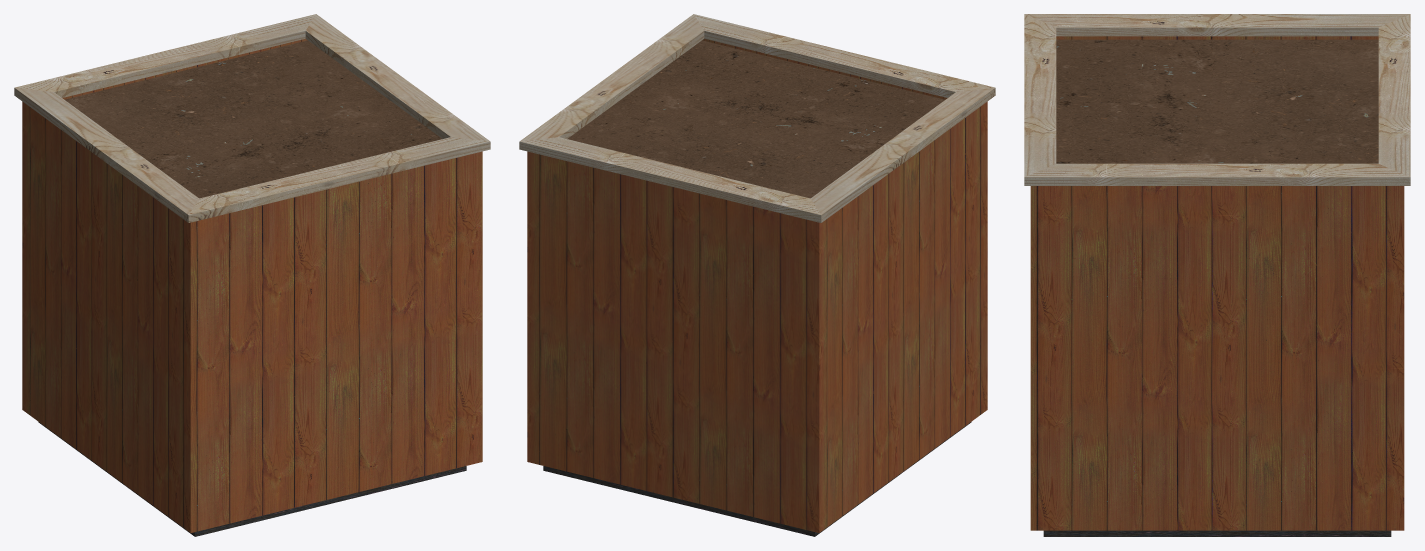
Rendered from GardenPlanter01_4.FBX.
The picture shows the model from 3 angles, left to right: view 1: azimuth 30°, elevation 25°; view 2: azimuth 150°, elevation 25°; view 3: azimuth 270°, elevation 25°; orthographic projection. The views are drawn at different scales.
Visible parts, largest first — view 1: GardenPlanter01_4; view 2: GardenPlanter01_4; view 3: GardenPlanter01_4.
Boxes of the visible parts, x1=… form: GardenPlanter01_4: x1=14, y1=14, x2=490, y2=536; GardenPlanter01_4: x1=519, y1=14, x2=995, y2=536; GardenPlanter01_4: x1=1024, y1=14, x2=1410, y2=536.
Size of what is drawn, in the model's own units: 0.6 by 0.63 by 0.6.
